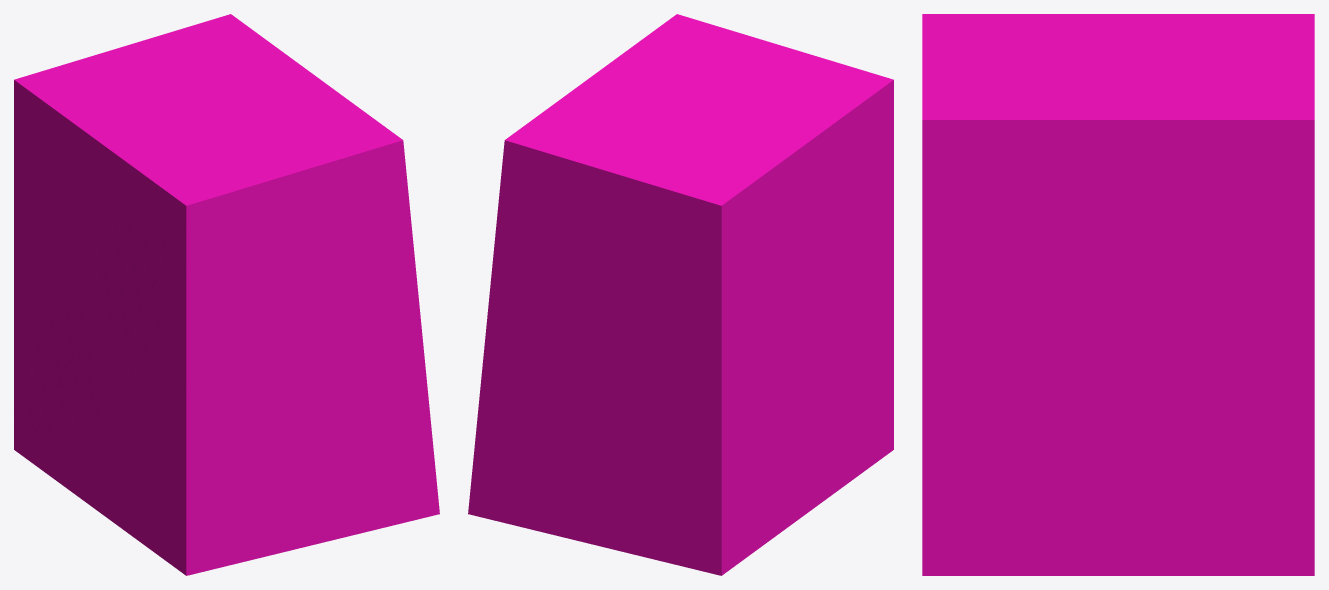
The model's file is study_book_row_3_meshCollider.fbx.
3 views of the same model, side by side, from view 1: azimuth 30°, elevation 25°; view 2: azimuth 150°, elevation 25°; view 3: azimuth 270°, elevation 25° (orthographic). The views are drawn at different scales.
Visible parts, largest first — view 1: study_book_row_3_meshCollider; view 2: study_book_row_3_meshCollider; view 3: study_book_row_3_meshCollider.
Part boxes in pixels (left/top/right/bottom): study_book_row_3_meshCollider: left=14, top=14, right=439, bottom=575; study_book_row_3_meshCollider: left=468, top=14, right=893, bottom=575; study_book_row_3_meshCollider: left=922, top=14, right=1314, bottom=575.
Bounding box in the file's own units: 19.6 × 28.29 × 23.09.
